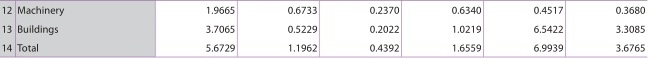column: (17, 1, 65, 58), (369, 1, 399, 58), (533, 1, 563, 58), (206, 1, 236, 57), (287, 1, 317, 57), (451, 1, 481, 57), (615, 2, 645, 58), (2, 1, 13, 57)
row: (1, 5, 649, 14), (1, 24, 649, 33), (1, 42, 649, 51)
